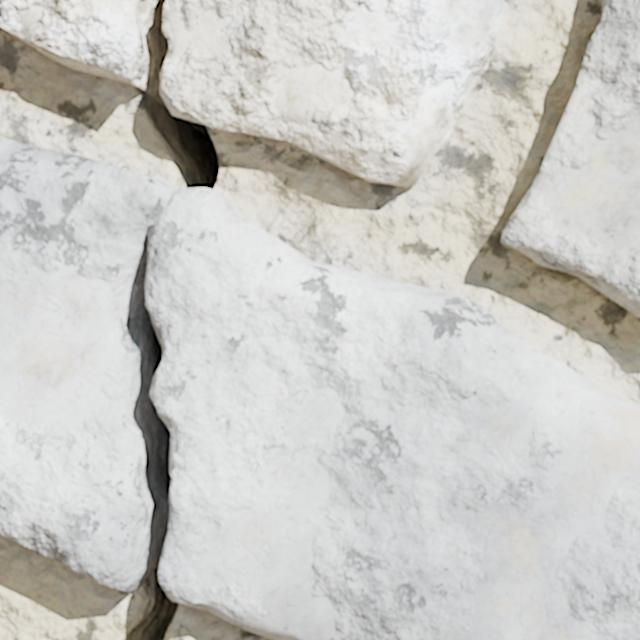broken_brick: (0, 136, 639, 639), (160, 0, 504, 186), (0, 0, 148, 90)
crack: (501, 0, 639, 317), (106, 242, 179, 639), (129, 0, 220, 189)
